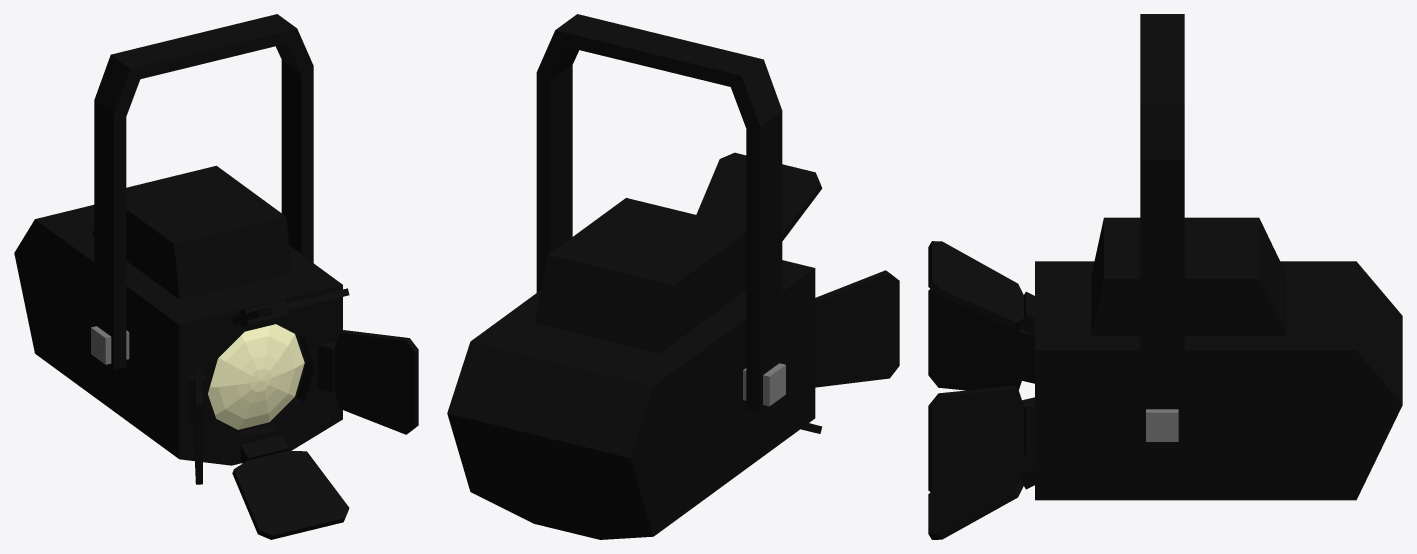
The model's file is Int_ProjectorLight01_1.fbx.
3 renders of one model, left to right at view 1: azimuth 30°, elevation 25°; view 2: azimuth 150°, elevation 25°; view 3: azimuth 270°, elevation 25°, orthographic. The views are drawn at different scales.
Visible parts, largest first — view 1: Int_ProjectorLight01_1; view 2: Int_ProjectorLight01_1; view 3: Int_ProjectorLight01_1.
Boxes of the visible parts, <box> form: Int_ProjectorLight01_1: <box>14,14,418,539</box>; Int_ProjectorLight01_1: <box>447,14,899,539</box>; Int_ProjectorLight01_1: <box>928,14,1402,539</box>.
Size of what is drawn, in the model's own units: 42.51 by 70.44 by 75.51.
